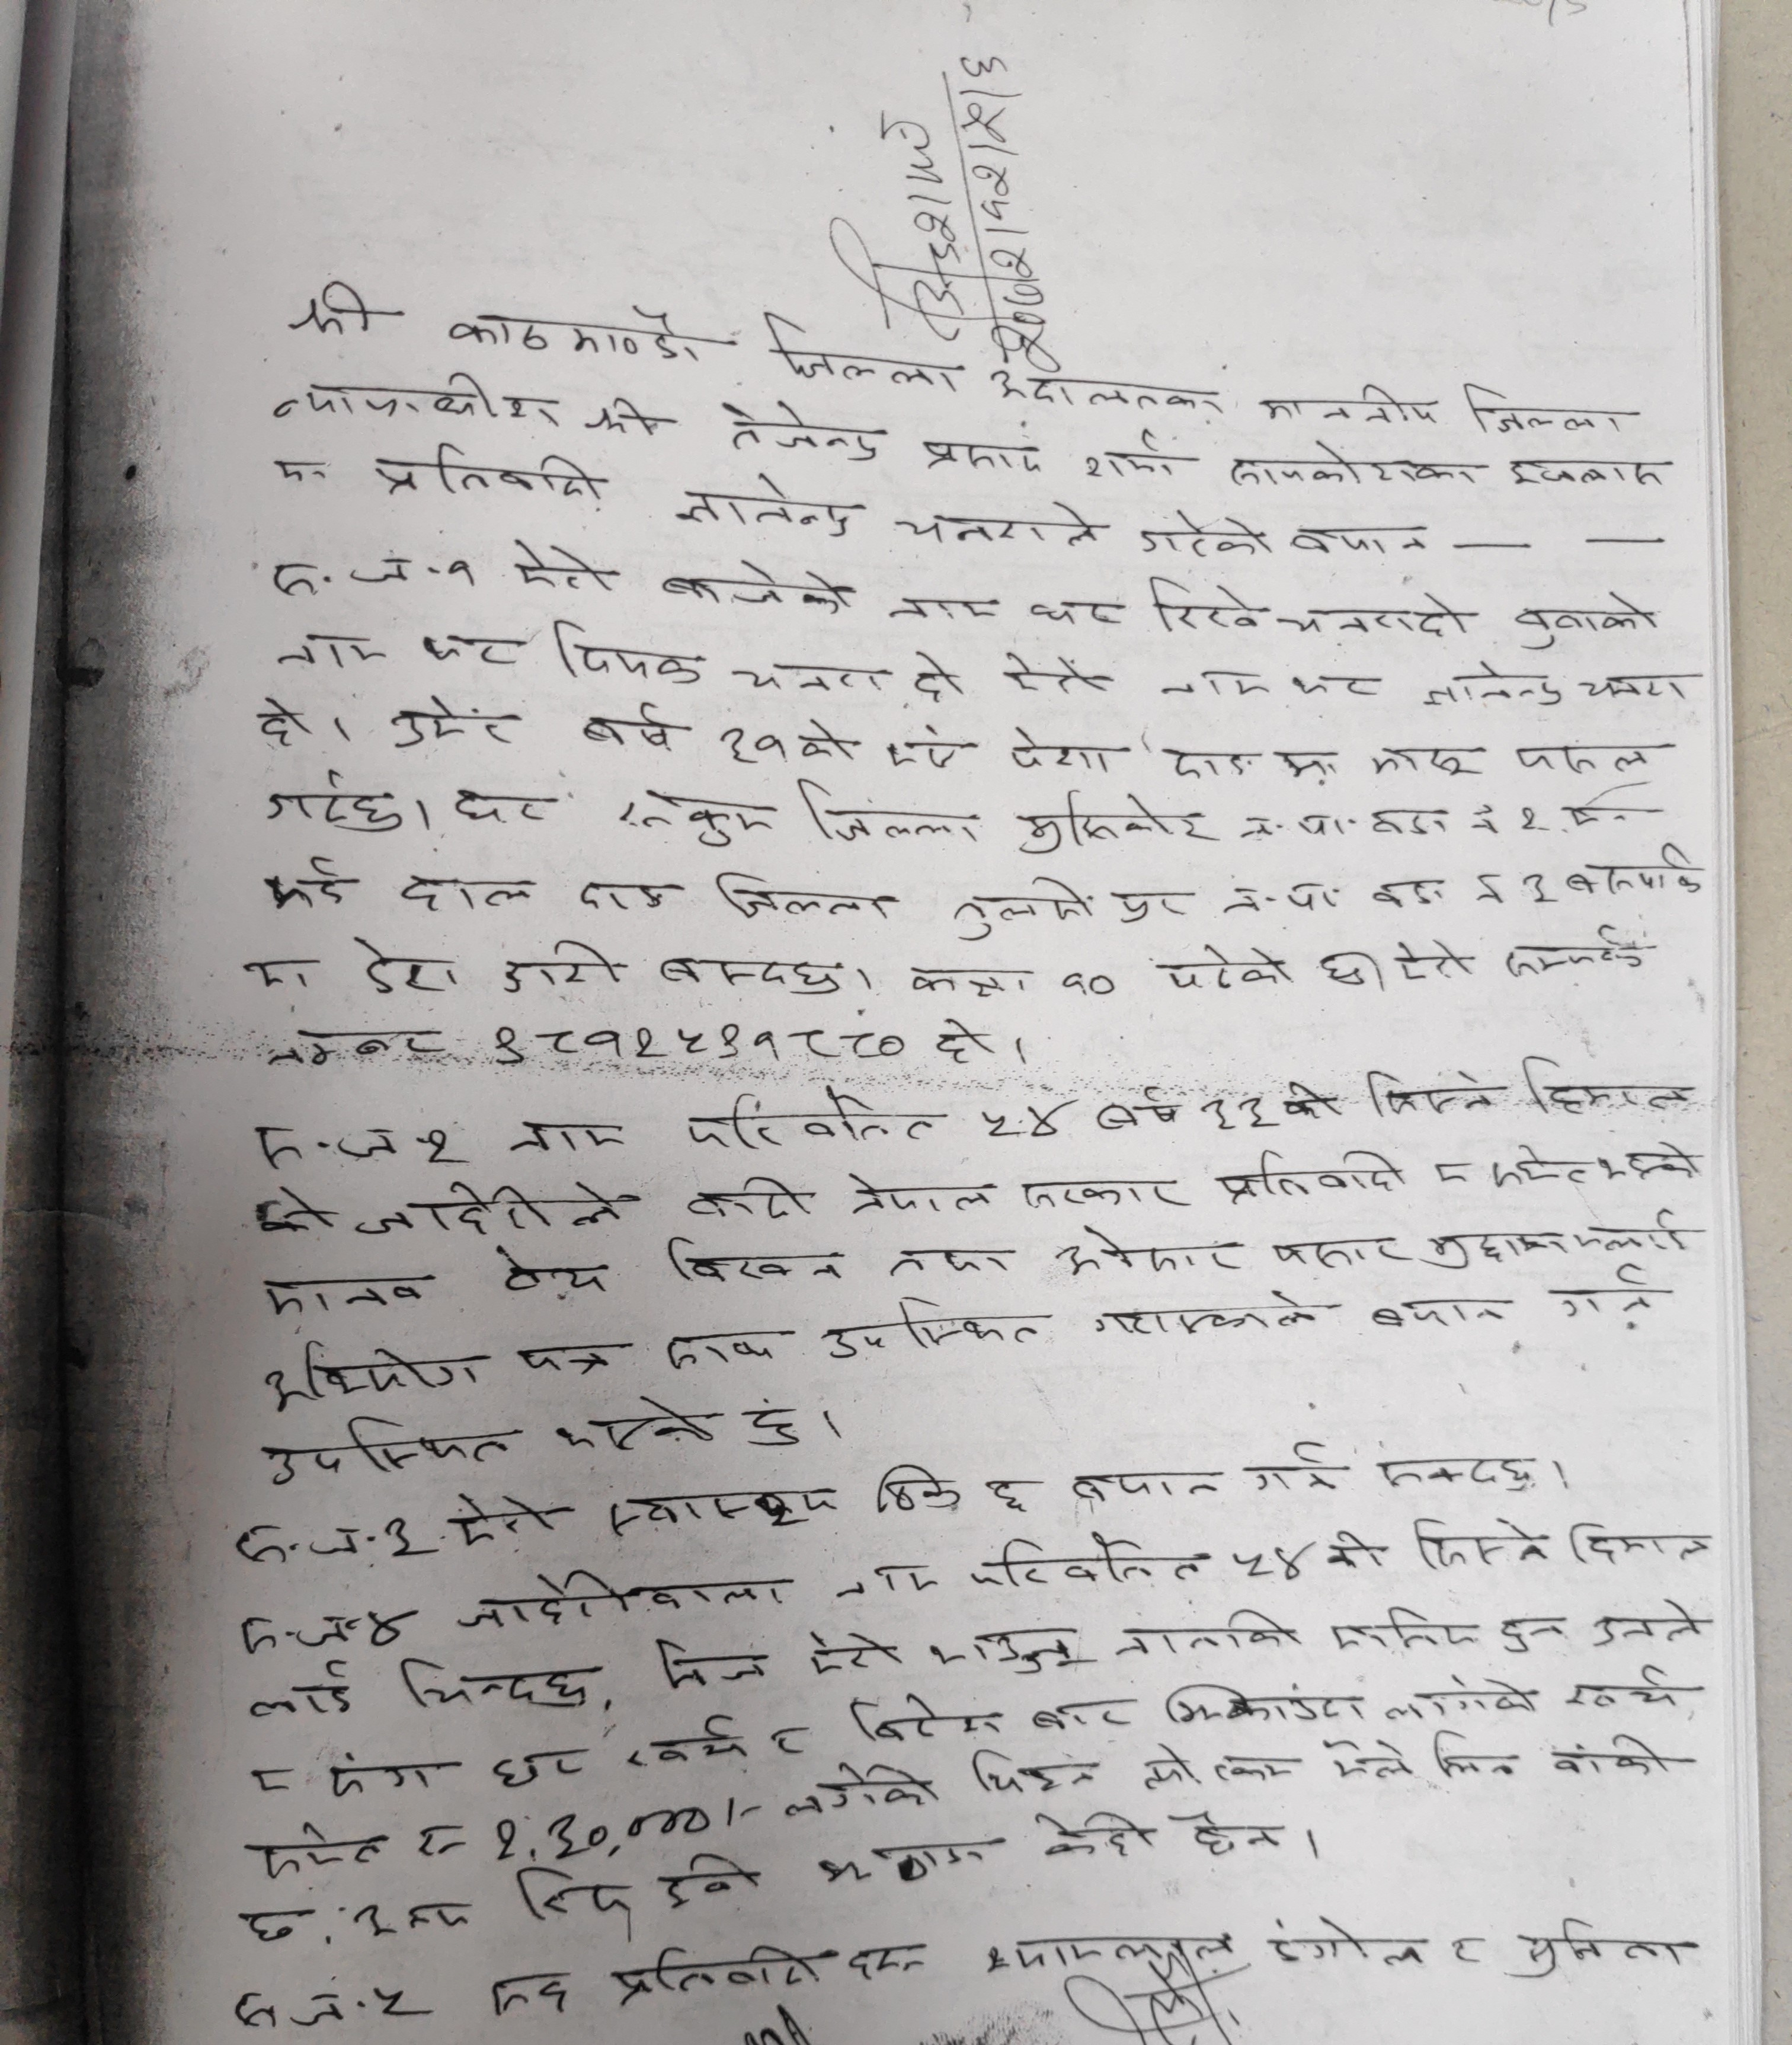text: (483, 1017, 914, 1066), (256, 1414, 520, 1490), (455, 1569, 789, 1628), (353, 1179, 631, 1245), (269, 369, 556, 431), (756, 306, 956, 395), (410, 1802, 714, 1859), (1424, 1209, 1696, 1271), (257, 1337, 488, 1410), (372, 436, 601, 510), (817, 1292, 1048, 1363), (687, 1083, 935, 1149), (608, 1935, 824, 2010), (450, 301, 707, 363), (787, 772, 984, 850), (607, 1482, 838, 1548), (1012, 786, 1215, 856), (968, 1530, 1203, 1589), (1225, 438, 1483, 492), (393, 1649, 596, 1716), (989, 363, 1229, 421), (654, 1226, 852, 1292), (1093, 1282, 1321, 1339), (897, 494, 1102, 555), (657, 556, 855, 619), (1514, 1916, 1691, 1986), (674, 470, 862, 534), (1481, 1136, 1709, 1188), (1048, 1217, 1243, 1278), (1517, 1050, 1696, 1116), (1460, 379, 1643, 442), (1161, 1671, 1364, 1727), (1215, 1148, 1406, 1207), (1156, 657, 1387, 706), (544, 619, 706, 689), (716, 866, 892, 929), (549, 1393, 720, 1457), (1274, 591, 1479, 643), (1112, 1605, 1300, 1661), (264, 763, 410, 835), (718, 396, 879, 461), (947, 873, 1097, 943), (262, 1022, 447, 1078), (1512, 588, 1667, 654), (1382, 1662, 1540, 1727), (650, 951, 845, 1003), (243, 1819, 396, 1885), (808, 1835, 992, 1888), (1265, 1913, 1430, 1972), (1220, 869, 1411, 920), (1253, 383, 1444, 433), (784, 1762, 940, 1821), (846, 1689, 1012, 1744), (261, 1269, 436, 1322), (1238, 796, 1406, 850), (1563, 836, 1707, 899), (619, 793, 768, 852), (1024, 1802, 1166, 1862), (928, 1622, 1083, 1678), (836, 1169, 998, 1221), (348, 932, 466, 1003), (1411, 1516, 1552, 1575), (264, 550, 412, 605), (1373, 1447, 1538, 1495), (1165, 741, 1342, 786), (497, 932, 621, 996), (1420, 659, 1563, 715), (1503, 922, 1646, 977), (1144, 570, 1260, 638), (617, 1713, 754, 1770), (1364, 1061, 1502, 1118), (240, 1659, 358, 1725), (391, 696, 518, 756), (1323, 1605, 1484, 1652), (1152, 941, 1297, 993), (443, 1489, 563, 1551), (648, 1629, 765, 1694), (1563, 1518, 1710, 1569), (913, 431, 1046, 487), (516, 1864, 638, 1925), (318, 1746, 443, 1803), (1140, 506, 1281, 556), (681, 1174, 808, 1229), (1543, 1730, 1682, 1781), (657, 1323, 782, 1379), (730, 656, 890, 699), (655, 1852, 765, 1915), (1013, 1172, 1177, 1214), (1590, 1596, 1709, 1652), (1545, 1262, 1667, 1316), (987, 643, 1104, 699), (1069, 1469, 1224, 1511), (1271, 1233, 1418, 1276), (506, 530, 608, 593), (1166, 1802, 1284, 1855), (970, 1746, 1095, 1796), (1557, 1664, 1686, 1713), (492, 1247, 612, 1299), (1505, 450, 1662, 490), (1507, 739, 1663, 779), (1288, 516, 1436, 558), (1241, 1435, 1340, 1495), (1003, 725, 1114, 779), (287, 278, 384, 339), (1366, 1292, 1514, 1332), (879, 1240, 1010, 1285), (400, 875, 541, 915), (448, 781, 558, 831), (269, 629, 396, 673), (257, 857, 356, 913), (803, 1624, 904, 1678), (833, 1560, 939, 1610), (1025, 1689, 1135, 1737), (575, 699, 671, 755), (1422, 1727, 1519, 1781), (488, 1749, 594, 1798), (867, 1462, 961, 1516), (1317, 1729, 1411, 1782), (1093, 1080, 1184, 1136), (504, 1118, 624, 1160), (1081, 433, 1180, 483), (1107, 880, 1201, 932), (1575, 663, 1695, 703), (516, 1336, 614, 1384), (977, 1097, 1076, 1144), (1387, 932, 1479, 983), (904, 962, 1029, 998), (424, 624, 514, 675), (1491, 1605, 1573, 1657), (881, 725, 972, 772), (1227, 1535, 1314, 1584), (744, 1395, 808, 1459), (256, 687, 318, 753), (579, 390, 657, 442), (933, 1012, 999, 1073), (1029, 595, 1128, 635), (1135, 1737, 1205, 1793), (575, 878, 676, 916), (886, 593, 1006, 624), (1364, 744, 1479, 776), (1323, 1527, 1389, 1579), (902, 643, 963, 699), (235, 951, 313, 993), (793, 715, 859, 763), (718, 718, 791, 762), (1206, 1090, 1271, 1134), (979, 1473, 1031, 1522), (1314, 941, 1364, 989), (1057, 963, 1119, 1002), (765, 1716, 803, 1762), (443, 555, 476, 596)
